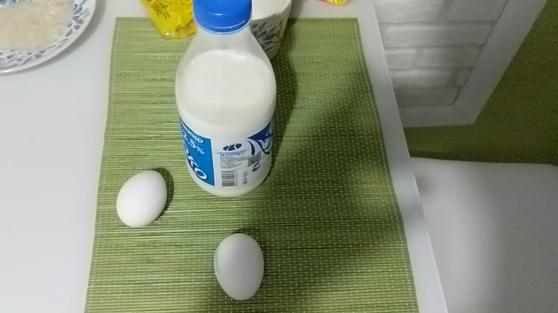egg: (208, 223, 271, 304), (106, 164, 170, 229)
milk: (173, 1, 274, 198)
rice: (1, 1, 86, 56)
